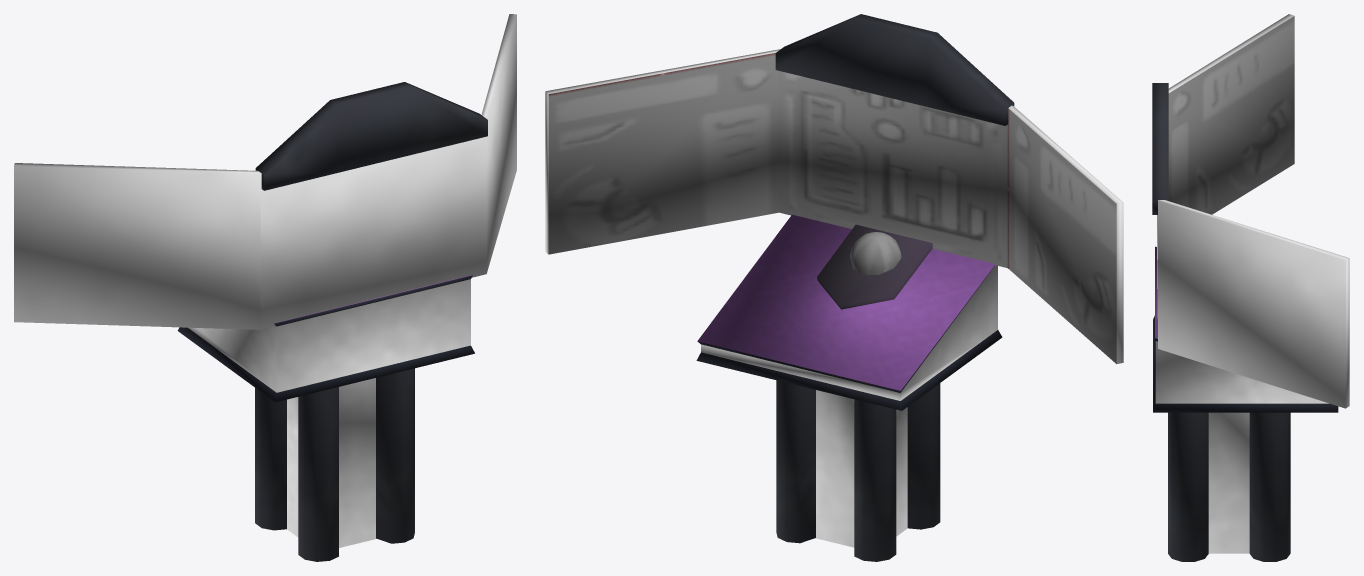
The model's file is FirstTerminal.fbx.
The picture shows the model from 3 angles, left to right: view 1: azimuth 30°, elevation 25°; view 2: azimuth 150°, elevation 25°; view 3: azimuth 270°, elevation 25°; orthographic projection. The views are drawn at different scales.
Visible parts, largest first — view 1: Terminal; view 2: Terminal; view 3: Terminal.
Boxes of the visible parts, bbox=[...] form: Terminal: bbox=[14, 14, 516, 561]; Terminal: bbox=[545, 14, 1123, 561]; Terminal: bbox=[1152, 14, 1349, 561].
Size of the model in its own units: 2.18 by 1.8 by 0.7368.
